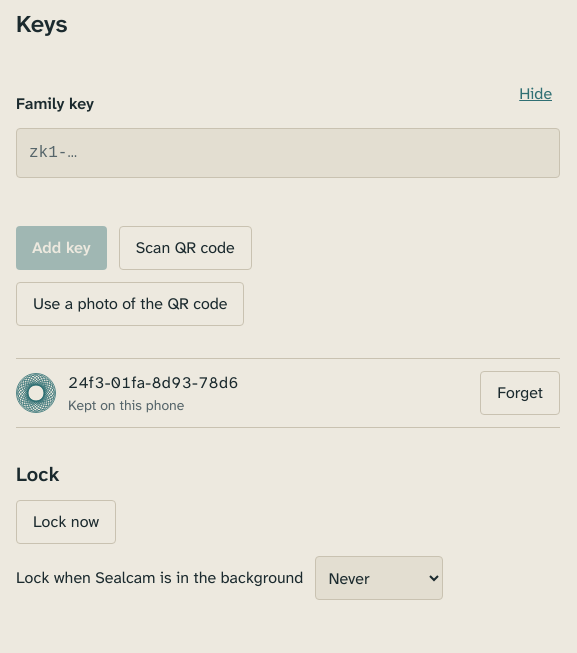
Test: lock › shows an error instead of an unhandled rejection when Lock fails
Click the button "Lock now": (66, 522) [16,500,116,544]
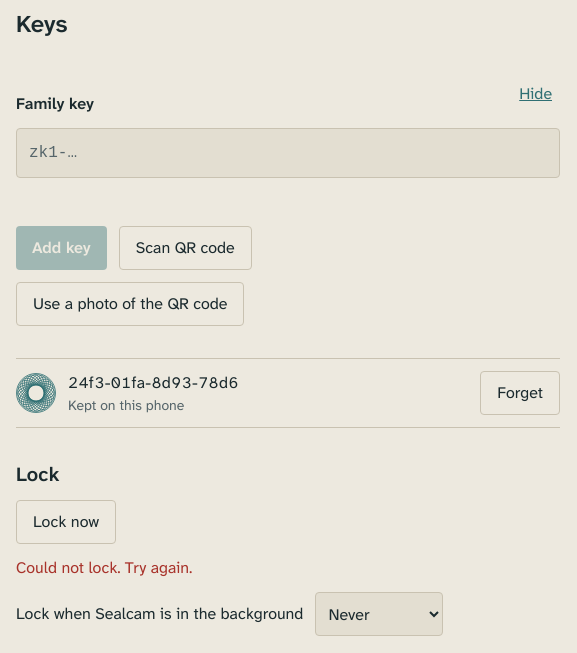
Expected: the message shows "Could not lock", [16,557,192,578]
